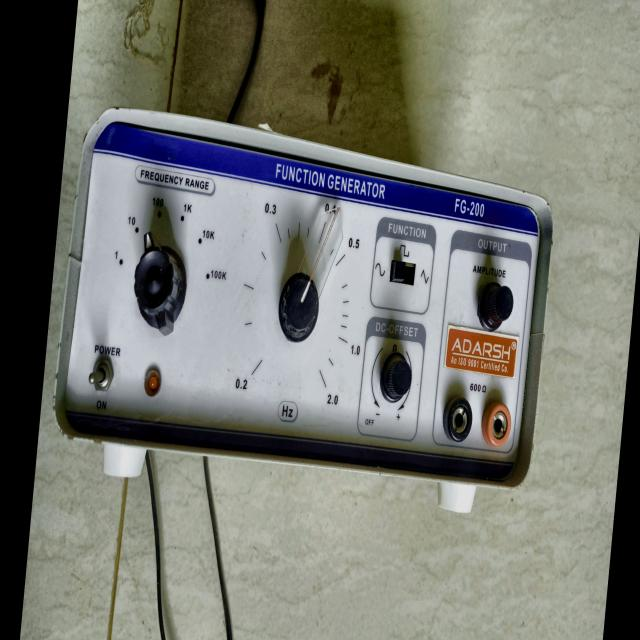Function Generator 100Khz: (41, 88, 572, 521)
